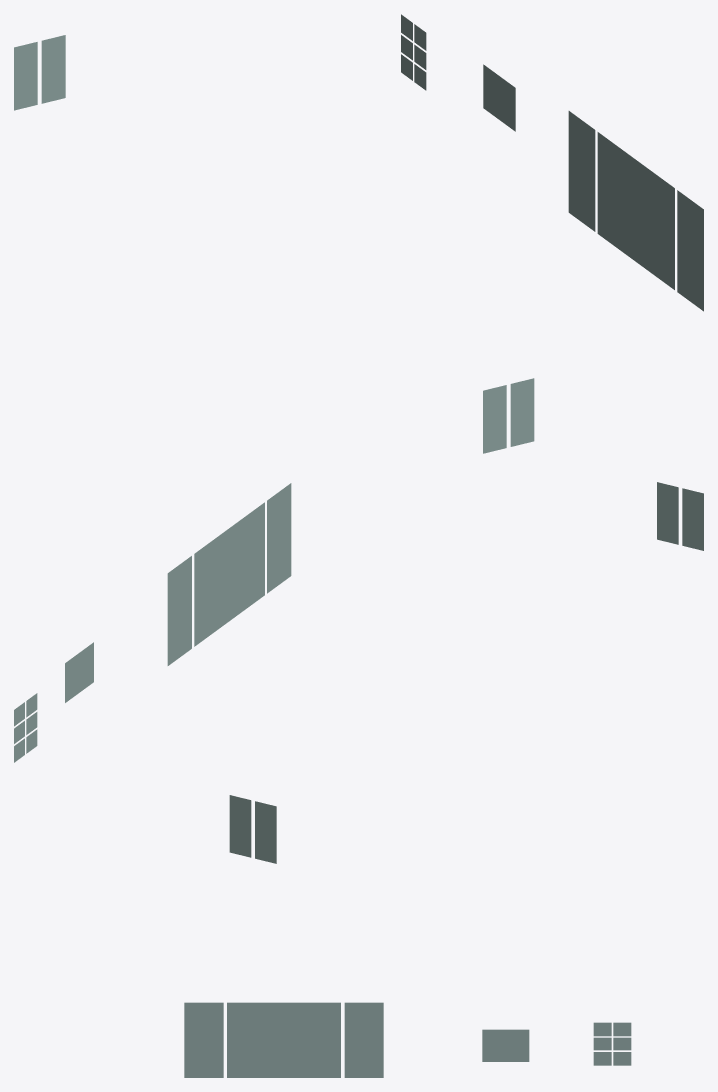
Rendered from SM_Town_Sheriff_Glass_LOD2.fbx.
3 views of the same model, one above another, from view 1: azimuth 30°, elevation 25°; view 2: azimuth 150°, elevation 25°; view 3: azimuth 270°, elevation 25° (orthographic). The views are drawn at different scales.
Visible parts, largest first — view 1: SM_Town_Sheriff_Glass_LOD2; view 2: SM_Town_Sheriff_Glass_LOD2; view 3: SM_Town_Sheriff_Glass_LOD2.
Boxes of the visible parts, x1,y1,x2,y2 form: SM_Town_Sheriff_Glass_LOD2: (14, 14, 703, 453); SM_Town_Sheriff_Glass_LOD2: (14, 482, 703, 863); SM_Town_Sheriff_Glass_LOD2: (184, 1002, 631, 1077).
Bounding box in the file's own units: 5.18 × 11.98 × 1.44.
